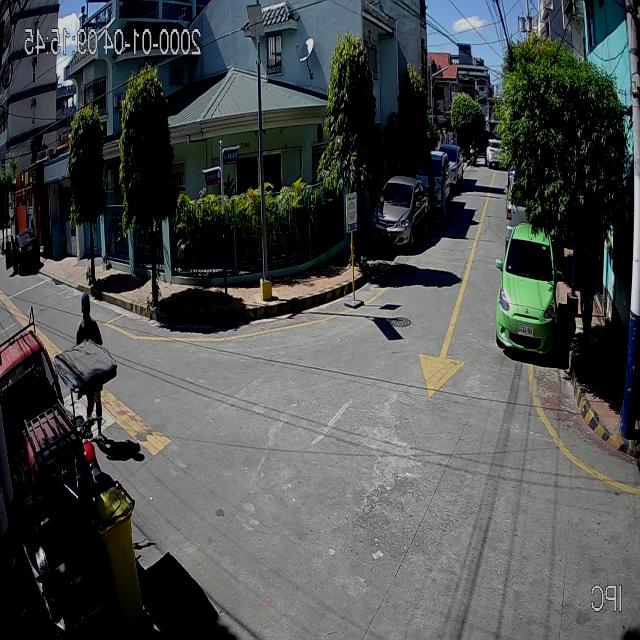walking: (75, 295, 107, 442)
